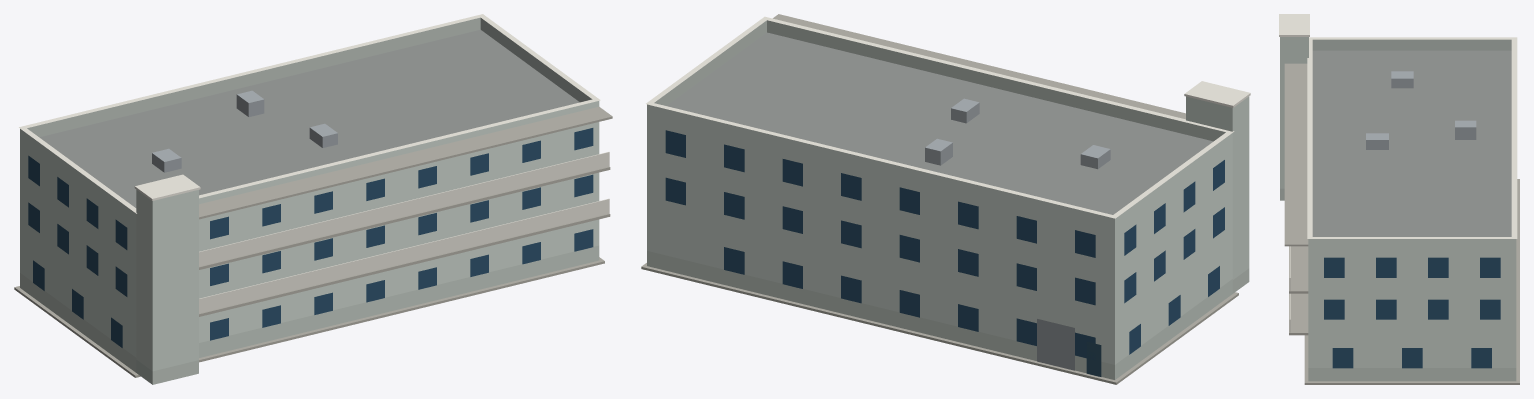
File: lodge_32x14_3f_lod1.glb
3 renders of one model, left to right at view 1: azimuth 30°, elevation 25°; view 2: azimuth 150°, elevation 25°; view 3: azimuth 270°, elevation 25°, orthographic. The views are drawn at different scales.
Parts seen in each view (by area): view 1: block; view 2: block; view 3: block.
Part boxes in pixels (left/top/right/bottom): block: left=14, top=14, right=612, bottom=384; block: left=641, top=14, right=1250, bottom=384; block: left=1279, top=14, right=1519, bottom=384.
Size of the model in its own units: 32.5 by 12.49 by 16.22.
